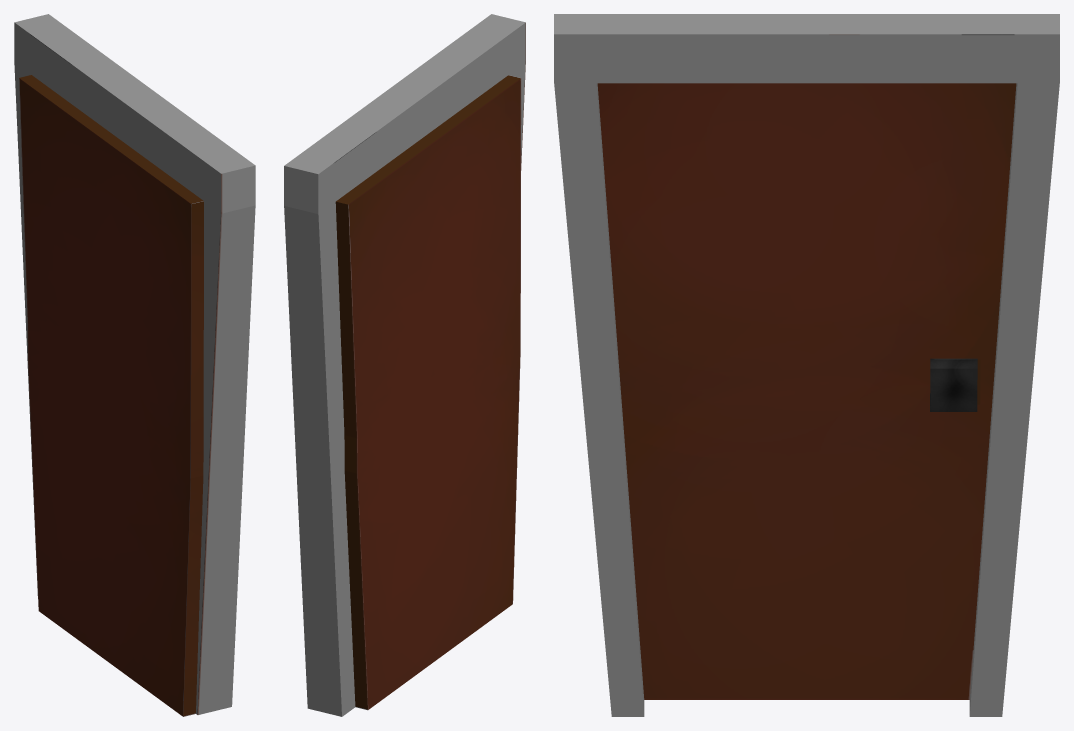
The model's file is normal_door.fbx.
3 renders of one model, left to right at view 1: azimuth 30°, elevation 25°; view 2: azimuth 150°, elevation 25°; view 3: azimuth 270°, elevation 25°, orthographic. The views are drawn at different scales.
Parts seen in each view (by area): view 1: Cube.001, Cube; view 2: Cube.001, Cube; view 3: Cube.001, Cube.
Part boxes in pixels (bbox=[...]): Cube.001: bbox=[19, 75, 203, 716]; Cube: bbox=[14, 14, 255, 714]; Cube.001: bbox=[335, 75, 521, 710]; Cube: bbox=[284, 14, 525, 716]; Cube.001: bbox=[597, 83, 1016, 699]; Cube: bbox=[554, 14, 1059, 716].
Size of the model in its own units: 18.93 by 216 by 145.
Materials: 1 (1 with a texture image).
